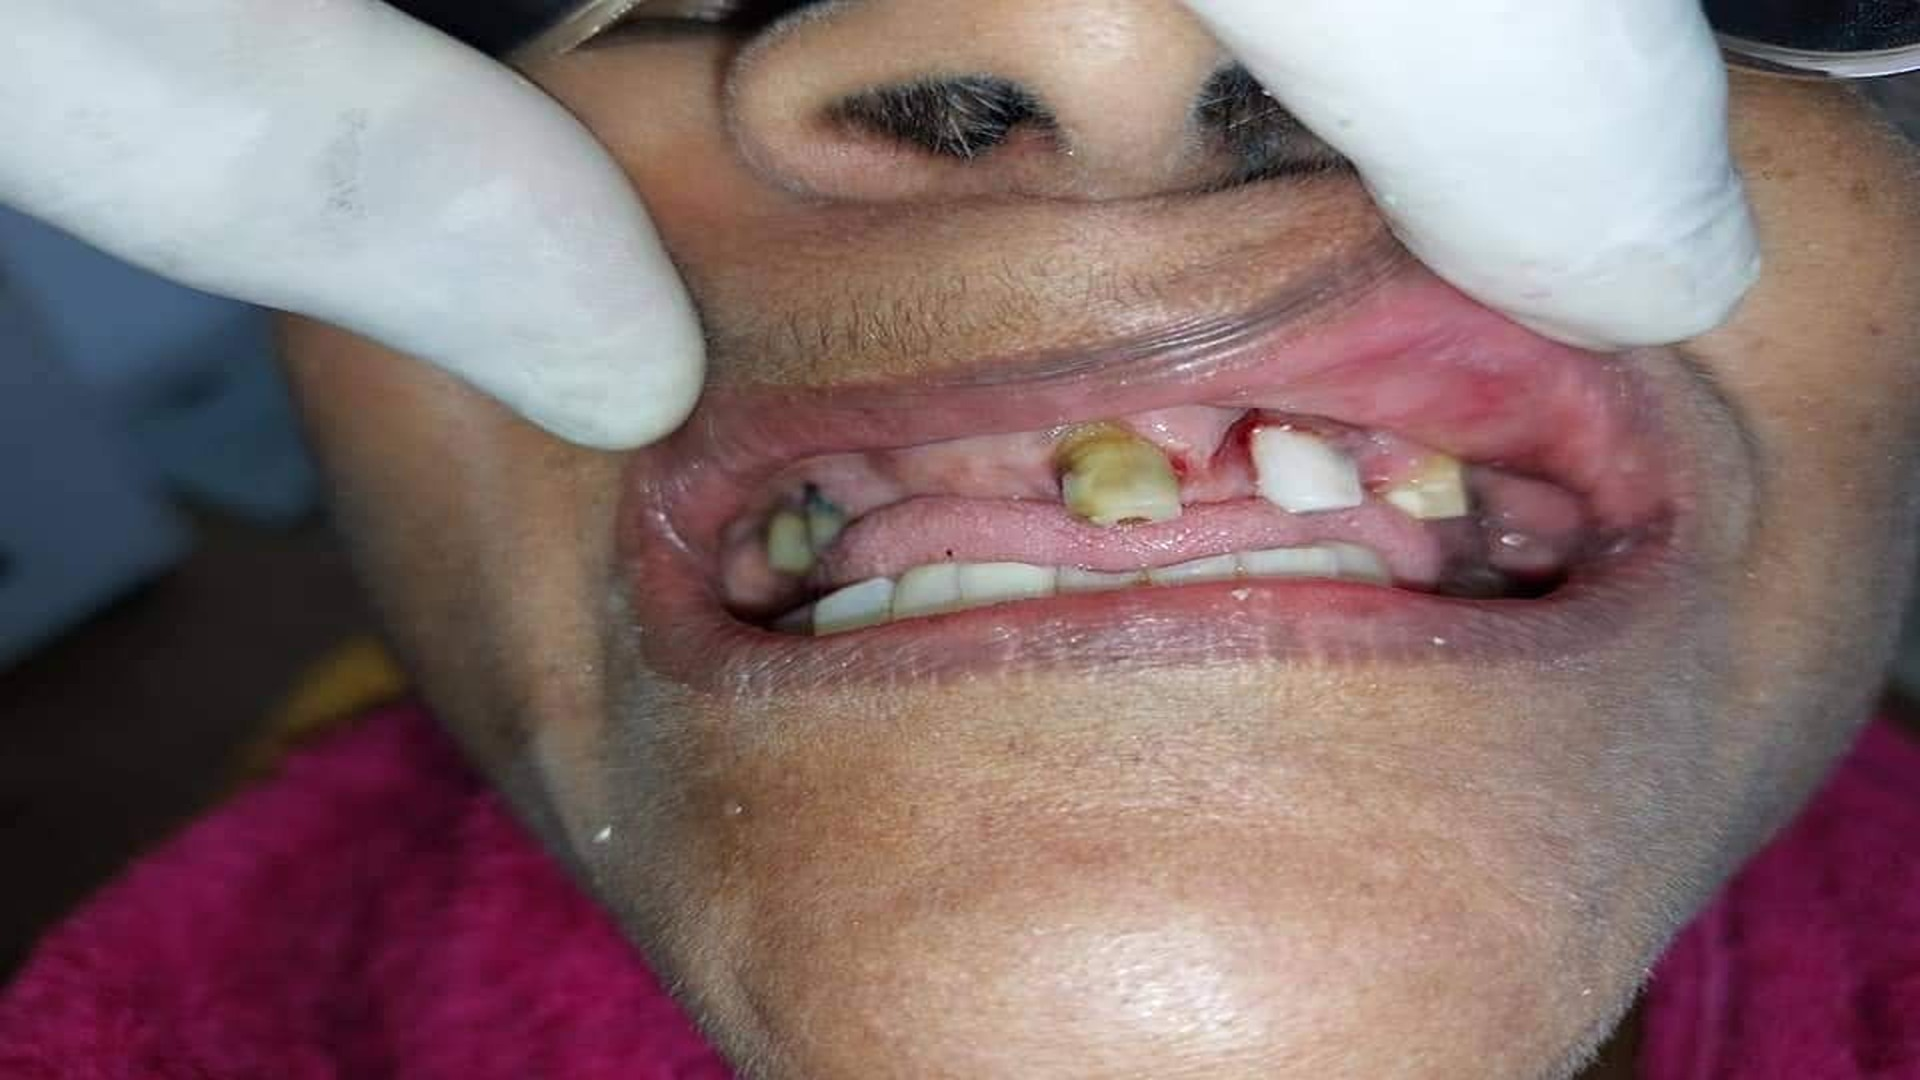tooth: (1055, 422, 1182, 524), (1251, 426, 1364, 513), (1375, 455, 1470, 520), (814, 578, 895, 636), (960, 560, 1056, 605), (894, 562, 961, 618), (1232, 549, 1338, 576), (1321, 545, 1393, 585), (1055, 564, 1151, 592), (1153, 554, 1236, 585)
